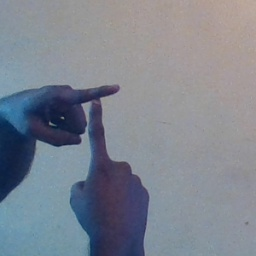T: (52, 74, 143, 193)
